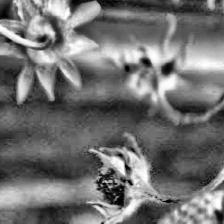Gray Mold: (83, 133, 185, 224)
